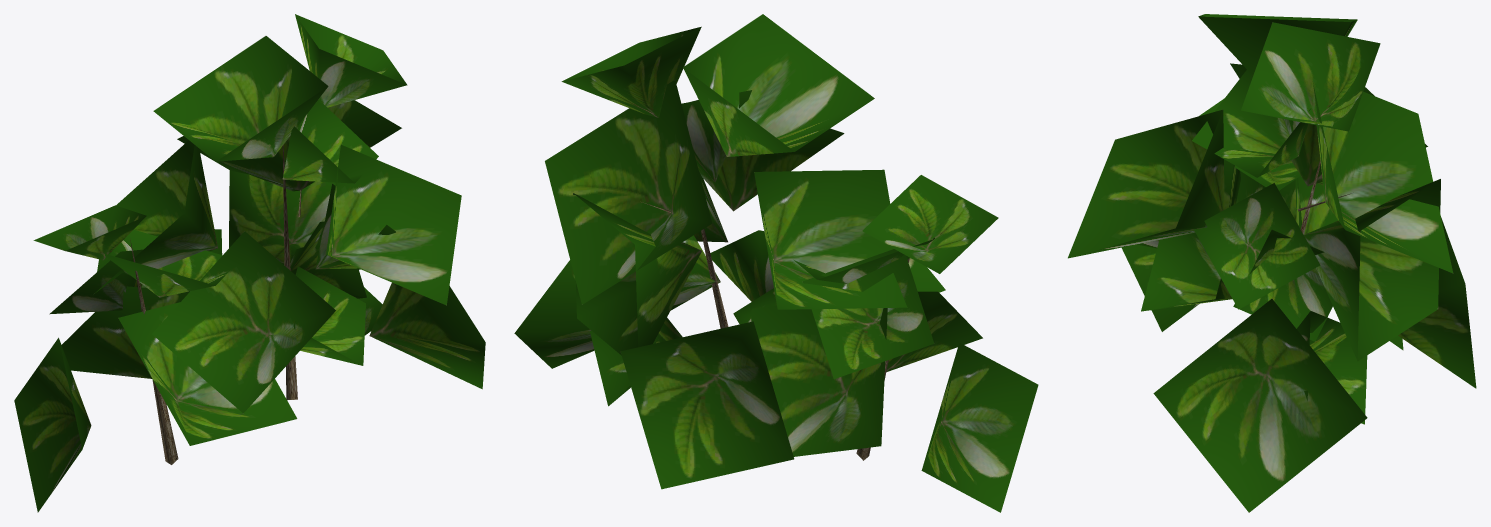
The model's file is leaf_palmbush_a1_l2.fbx.
3 views of the same model, side by side, from view 1: azimuth 30°, elevation 25°; view 2: azimuth 150°, elevation 25°; view 3: azimuth 270°, elevation 25° (orthographic). The views are drawn at different scales.
Visible parts, largest first — view 1: mesh_node; view 2: mesh_node; view 3: mesh_node.
Boxes of the visible parts, x1,y1,x2,y2 form: mesh_node: (14, 14, 485, 512); mesh_node: (514, 14, 1038, 512); mesh_node: (1068, 14, 1476, 512).
Size of the model in its own units: 3.02 by 2.61 by 2.23.
Materials: 2 (2 with a texture image).
